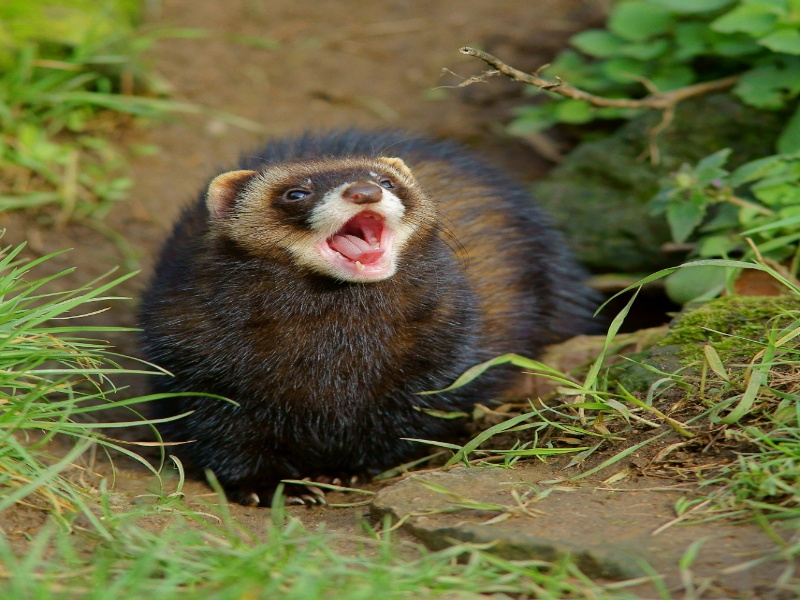minkish: (138, 128, 601, 517)
